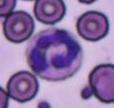N: (26, 29, 83, 80)
